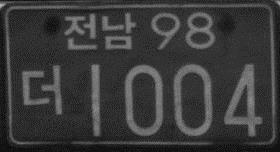0: (170, 61, 214, 137), (124, 62, 165, 138)
1: (87, 62, 105, 141)
4: (220, 62, 264, 142)
8: (185, 10, 214, 51)
9: (148, 8, 181, 52)
더: (19, 62, 64, 118)
전남_O: (62, 9, 137, 52)
